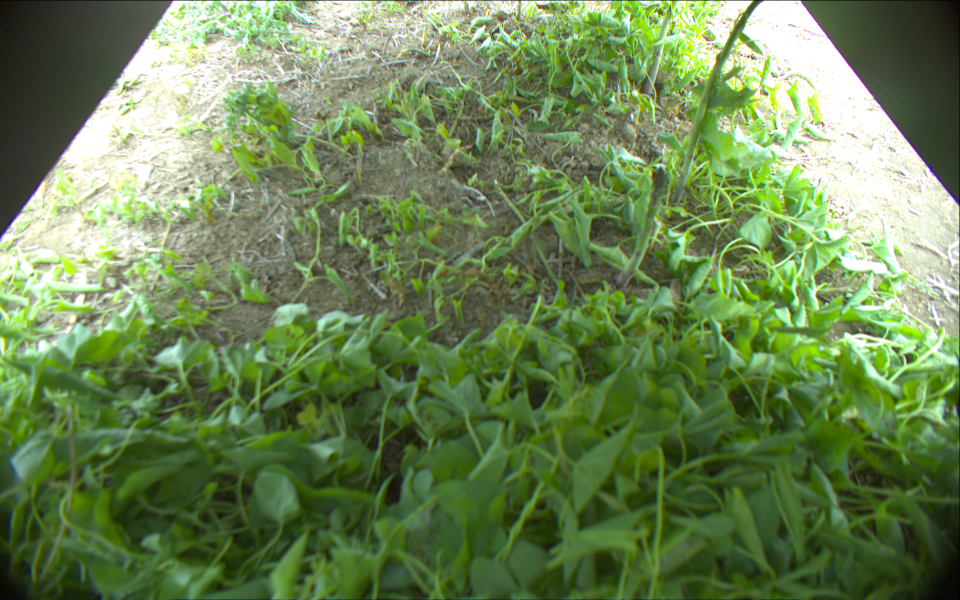aspa: (673, 1, 769, 204), (615, 165, 665, 289), (645, 1, 680, 95), (514, 1, 523, 20)
